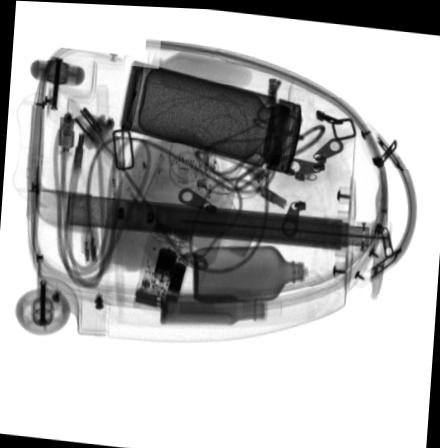Sprayer: (167, 125, 248, 284)
